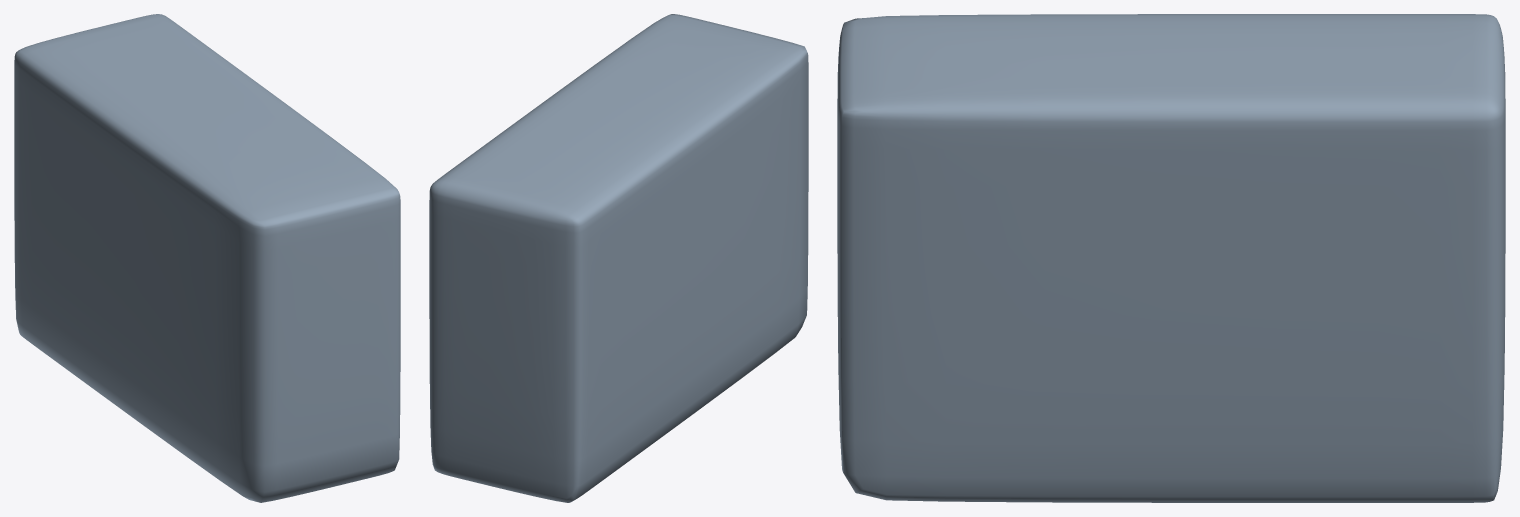
File: Simple_Button_Large_Hard.fbx
3 views of the same model, side by side, from view 1: azimuth 30°, elevation 25°; view 2: azimuth 150°, elevation 25°; view 3: azimuth 270°, elevation 25° (orthographic). The views are drawn at different scales.
Parts seen in each view (by area): view 1: Cube; view 2: Cube; view 3: Cube.
Part boxes in pixels (left/top/right/bottom): Cube: left=14, top=14, right=400, bottom=502; Cube: left=429, top=14, right=808, bottom=502; Cube: left=837, top=14, right=1505, bottom=502.
Bounding box in the file's own units: 16.06 × 29.36 × 43.91.
